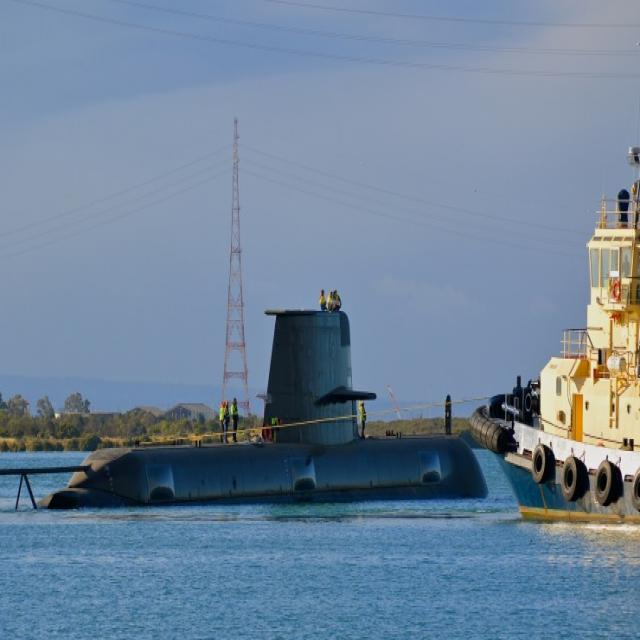submarine: (1, 306, 489, 512)
